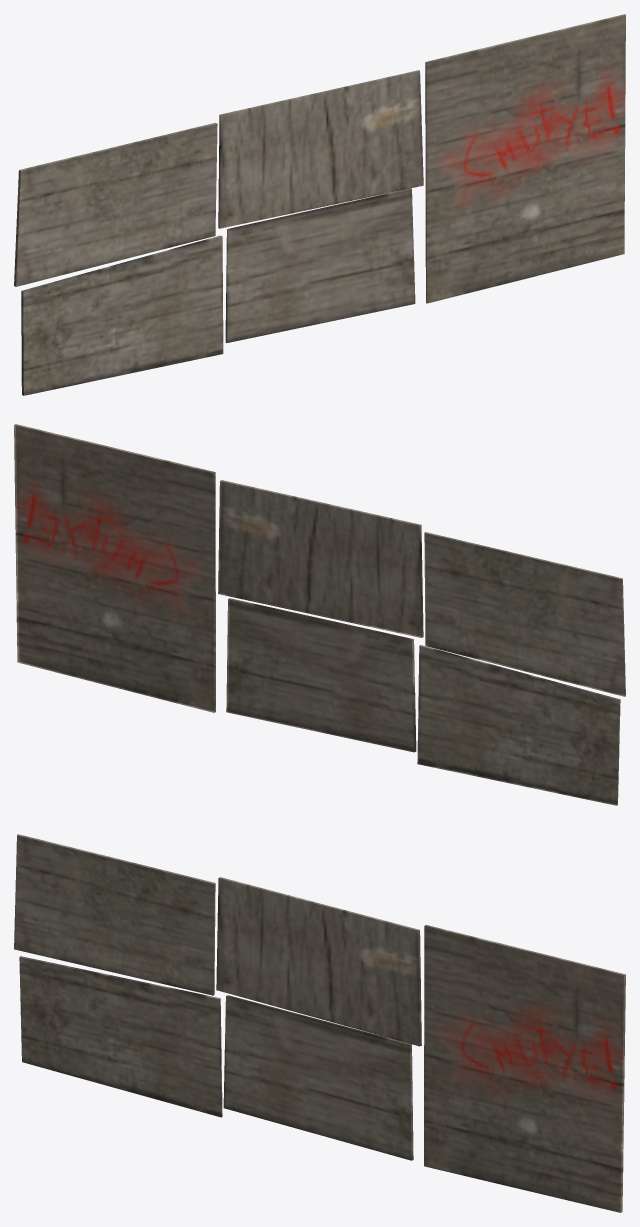
Rendered from BrownBoardSet_03.FBX.
The picture shows the model from 3 angles, top to bottom: view 1: azimuth 30°, elevation 25°; view 2: azimuth 150°, elevation 25°; view 3: azimuth 330°, elevation 25°; orthographic projection.
Visible parts, largest first — view 1: BrownBoardSmall_13, BrownBoardSmall_10, BrownBoardSmall_09, BrownBoardSmall_11, BrownBoardSmall_12; view 2: BrownBoardSmall_13, BrownBoardSmall_10, BrownBoardSmall_09, BrownBoardSmall_11, BrownBoardSmall_12; view 3: BrownBoardSmall_13, BrownBoardSmall_10, BrownBoardSmall_09, BrownBoardSmall_11, BrownBoardSmall_12.
Part boxes in pixels (x1,y1,x2,y2): BrownBoardSmall_13: (425, 14, 625, 303); BrownBoardSmall_10: (218, 70, 423, 228); BrownBoardSmall_09: (14, 122, 217, 286); BrownBoardSmall_11: (21, 235, 223, 395); BrownBoardSmall_12: (225, 188, 415, 343); BrownBoardSmall_13: (14, 424, 215, 712); BrownBoardSmall_10: (218, 480, 423, 637); BrownBoardSmall_09: (424, 532, 625, 696); BrownBoardSmall_11: (417, 645, 620, 805); BrownBoardSmall_12: (226, 598, 416, 752); BrownBoardSmall_13: (424, 925, 625, 1212); BrownBoardSmall_10: (216, 877, 421, 1046); BrownBoardSmall_09: (14, 834, 215, 995); BrownBoardSmall_11: (19, 956, 222, 1117); BrownBoardSmall_12: (223, 995, 413, 1160).
Bounding box in the file's own units: 382 × 144 × 2.73.
